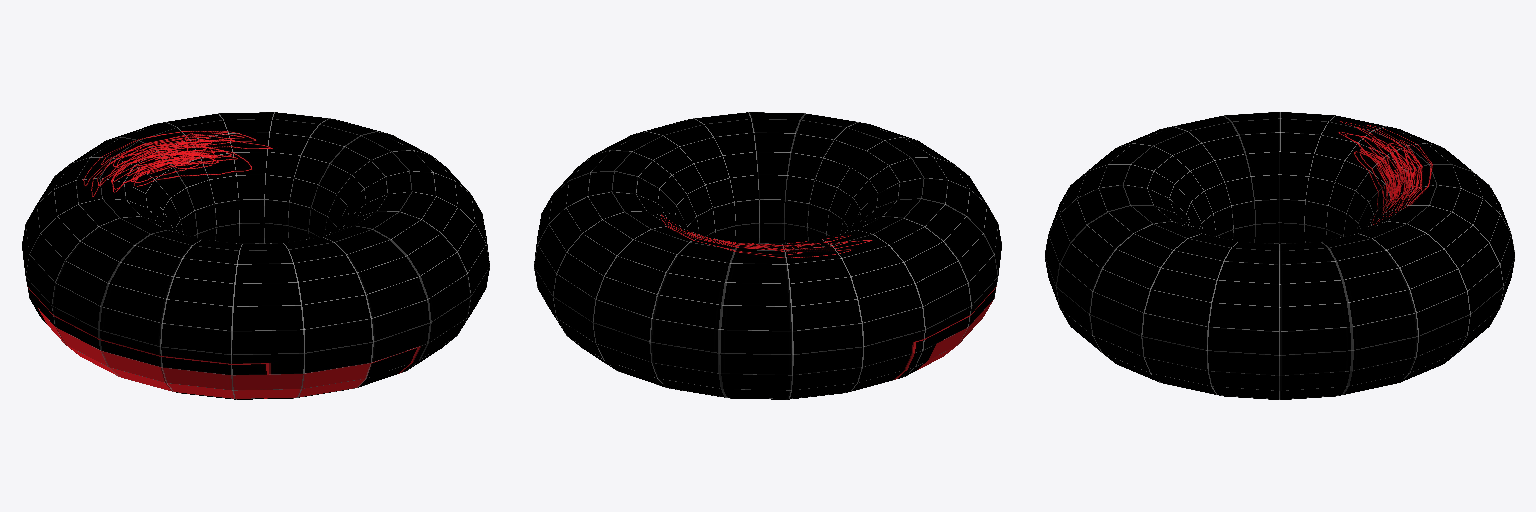
3 views of the same model, side by side, from view 1: azimuth 30°, elevation 25°; view 2: azimuth 150°, elevation 25°; view 3: azimuth 270°, elevation 25° (orthographic).
Parts seen in each view (by area): view 1: pTorus1; view 2: pTorus1; view 3: pTorus1.
Boxes of the visible parts, box(x1,y1,x2,y2) form: pTorus1: box(22, 112, 489, 399); pTorus1: box(534, 112, 1001, 399); pTorus1: box(1045, 112, 1514, 399).
Bounding box in the file's own units: 3 × 1 × 3.
Materials: 1 (1 with a texture image).